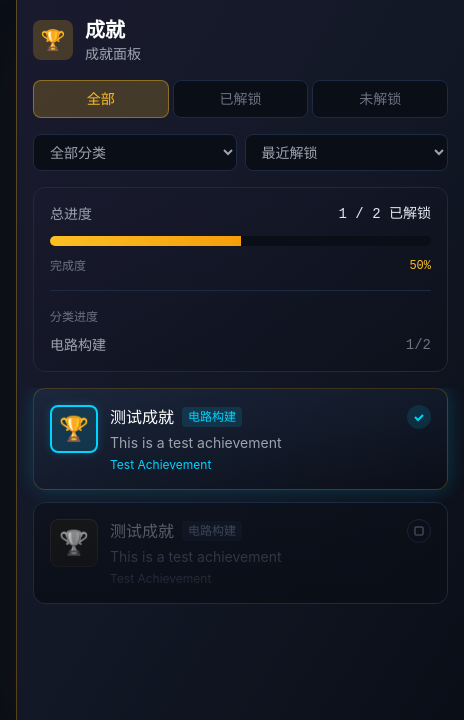
it: AchievementPanel Component › AC-181-002: AchievementPanel filtering works › rapid tab switching does not cause stale data display
The image size is (464, 720).
Rapidly click between tabs
Click the button with test id "achievement-tab-unlocked" at (241, 99), box top-left (173, 80), bottom-right (308, 118)
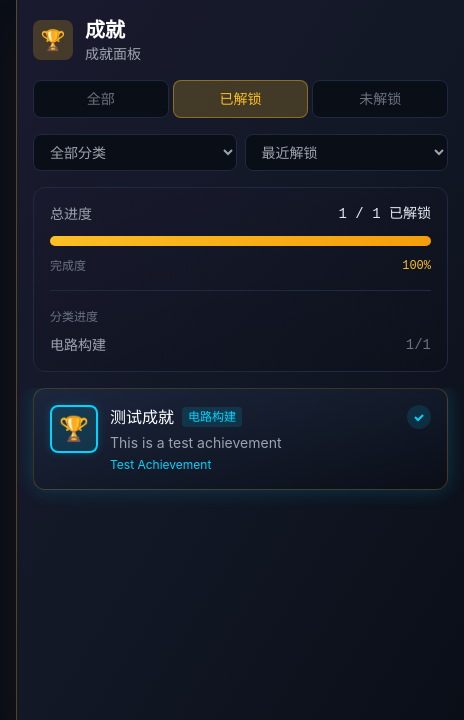
Click the button with test id "achievement-tab-locked" at (380, 99), box top-left (312, 80), bottom-right (448, 118)
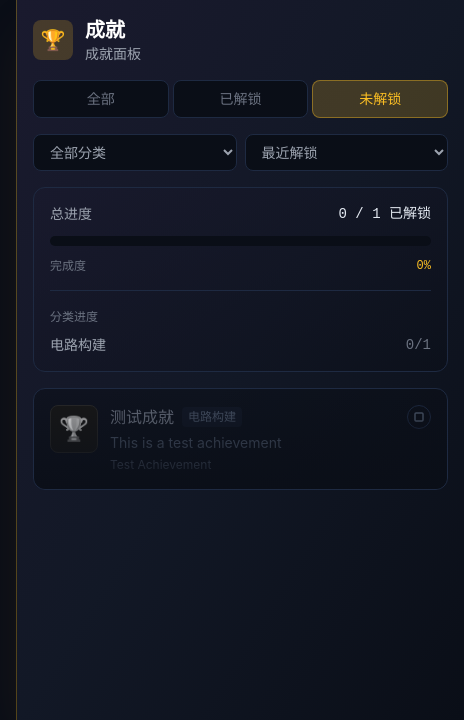
Click the button with test id "achievement-tab-all" at (101, 99), box top-left (33, 80), bottom-right (169, 118)
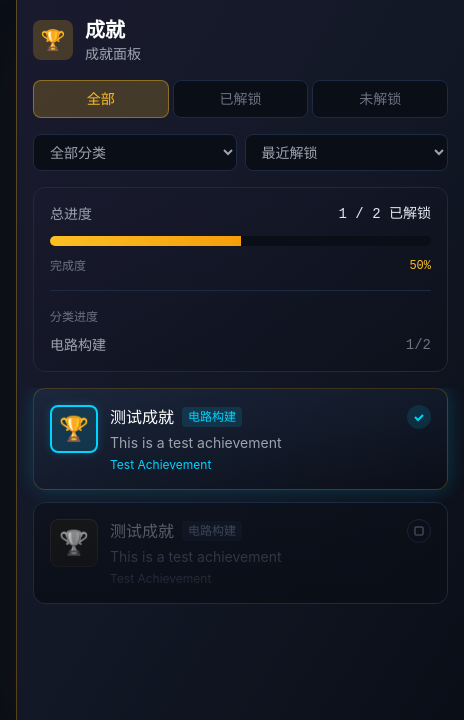
Click the button with test id "achievement-tab-unlocked" at (241, 99), box top-left (173, 80), bottom-right (308, 118)
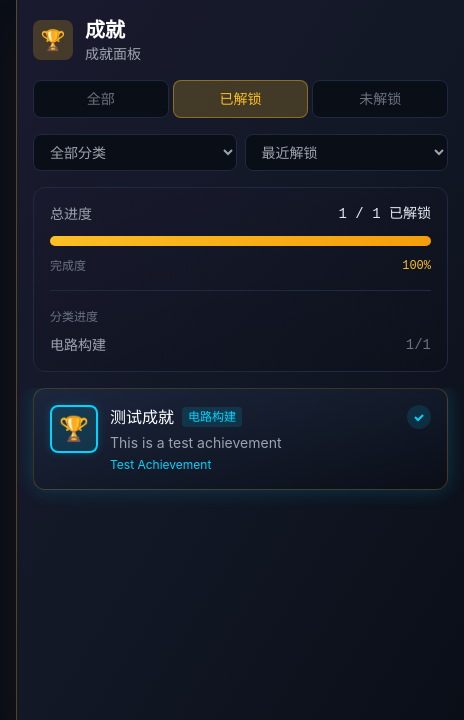
Expected: the element with test id "achievement-badge-a1" is shown, top-left (33, 388), bottom-right (448, 490)
Expected: the element with test id "achievement-badge-a2" is gone
